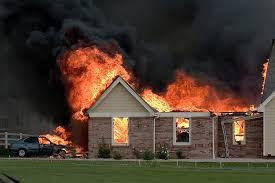fire: (143, 70, 258, 113), (36, 124, 83, 158), (112, 115, 129, 142)
